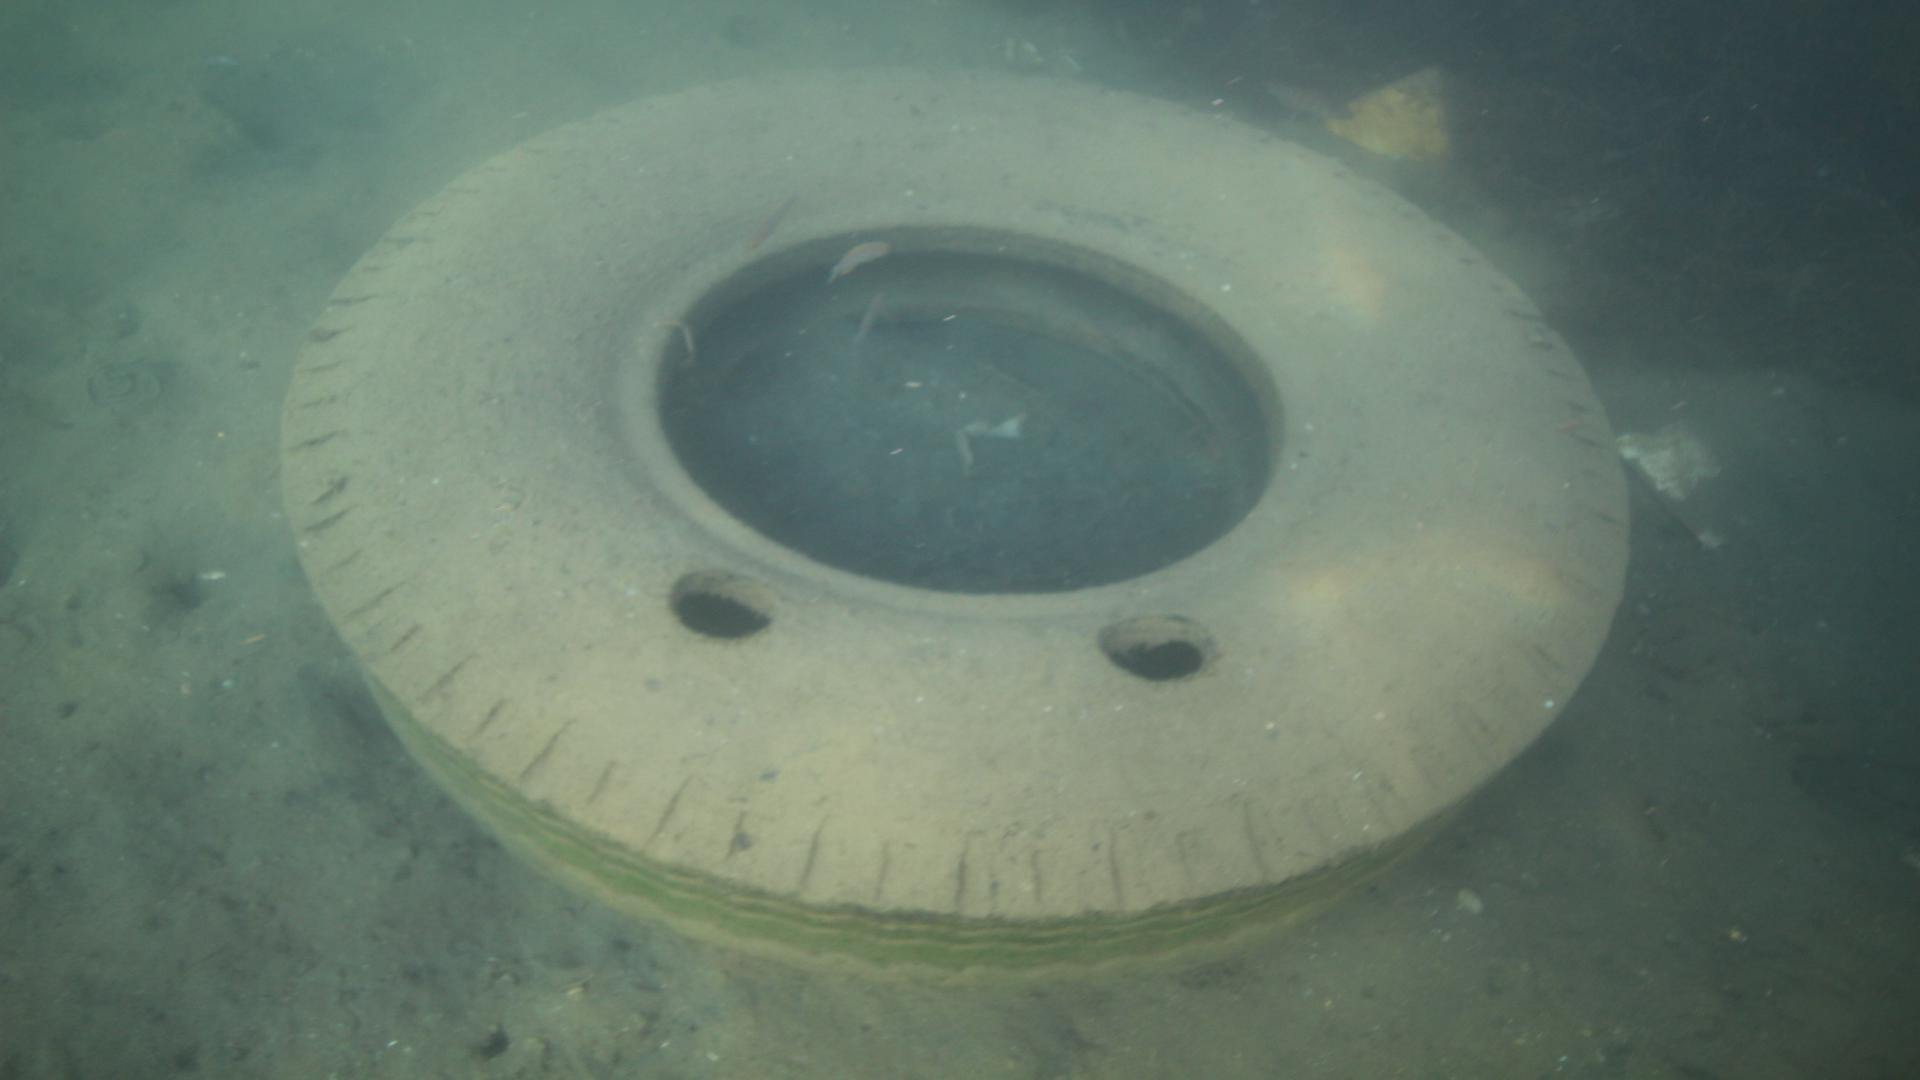tire: (278, 62, 1634, 993)
